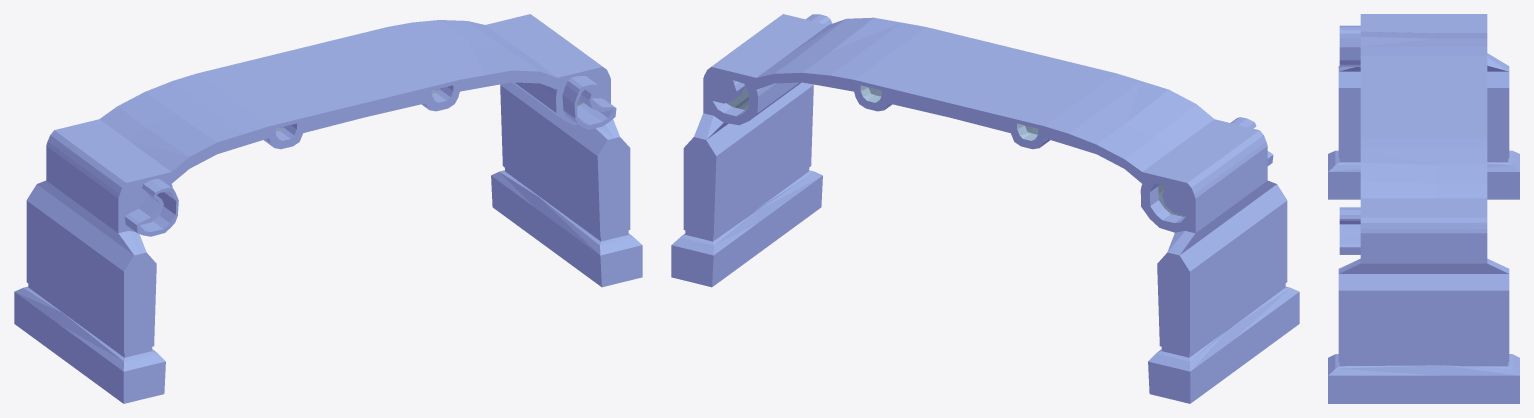
The model's file is Moon_Bridge.fbx.
The picture shows the model from 3 angles, left to right: view 1: azimuth 30°, elevation 25°; view 2: azimuth 150°, elevation 25°; view 3: azimuth 270°, elevation 25°; orthographic projection. The views are drawn at different scales.
Visible parts, largest first — view 1: polySurface1; view 2: polySurface1; view 3: polySurface1.
Boxes of the visible parts, x1,y1,x2,y2 form: polySurface1: [14, 14, 642, 403]; polySurface1: [671, 14, 1299, 403]; polySurface1: [1328, 14, 1519, 403].
Size of the model in its own units: 23.37 by 9.65 by 8.53.
